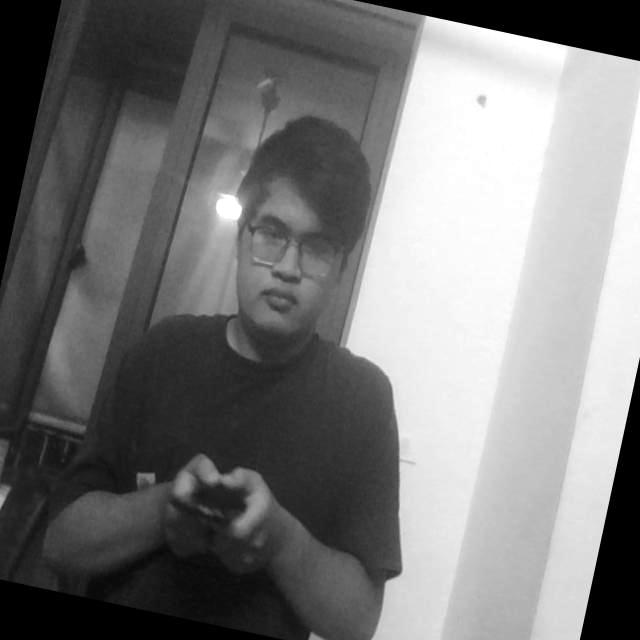phone: (148, 462, 262, 554)
